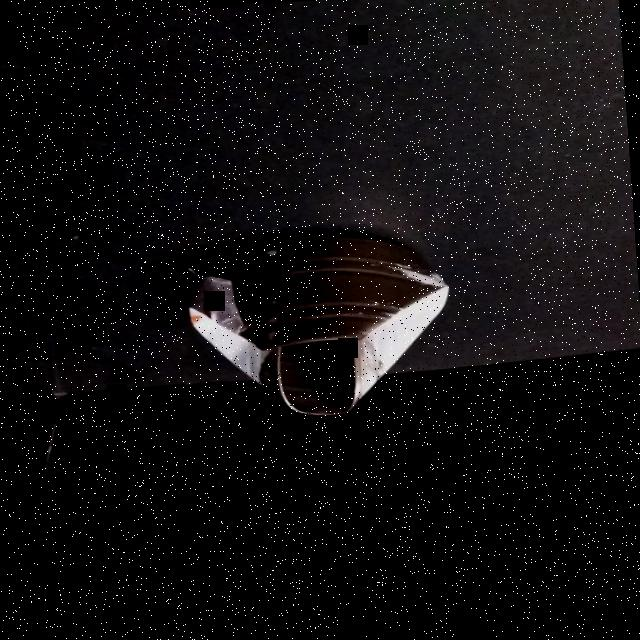can: (181, 226, 458, 429)
